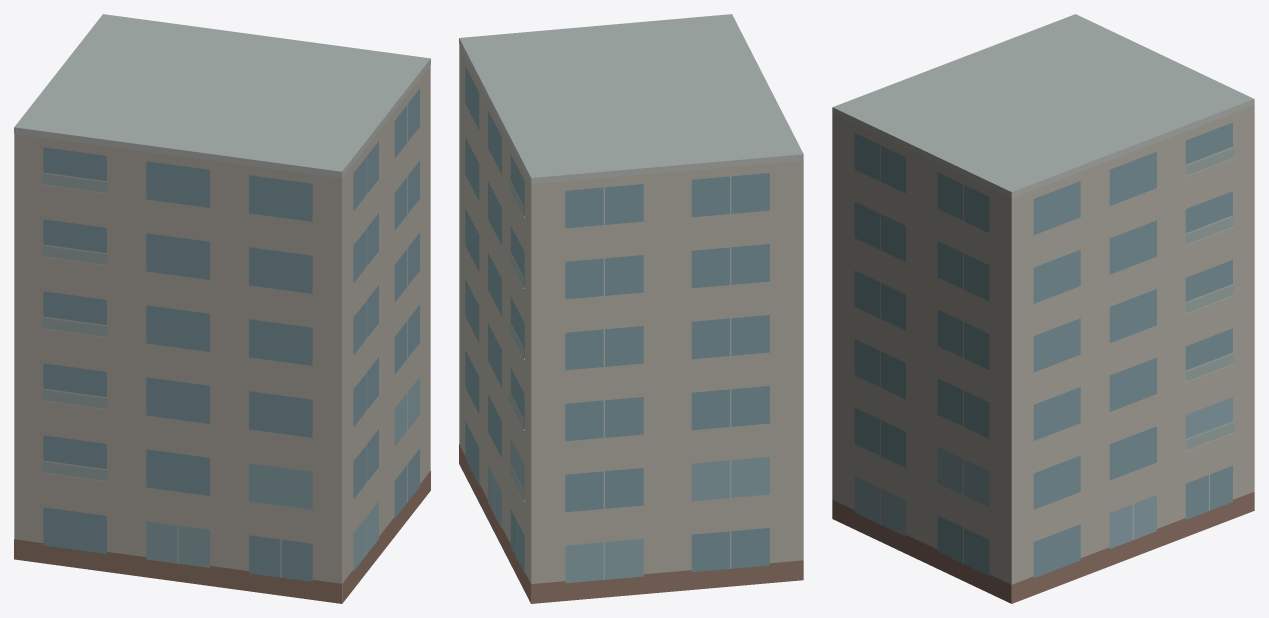
Rendered from survey-upis-32890880.glb.
The picture shows the model from 3 angles, left to right: view 1: azimuth 30°, elevation 25°; view 2: azimuth 150°, elevation 25°; view 3: azimuth 270°, elevation 25°; orthographic projection. The views are drawn at different scales.
Visible parts, largest first — view 1: survey-upis-32890880.tmp; view 2: survey-upis-32890880.tmp; view 3: survey-upis-32890880.tmp.
Part boxes in pixels (x1,y1,x2,y2): survey-upis-32890880.tmp: (14,14,430,603); survey-upis-32890880.tmp: (459,14,803,603); survey-upis-32890880.tmp: (832,14,1254,603).
Size of the model in its own units: 15.13 by 16.3 by 15.15.
